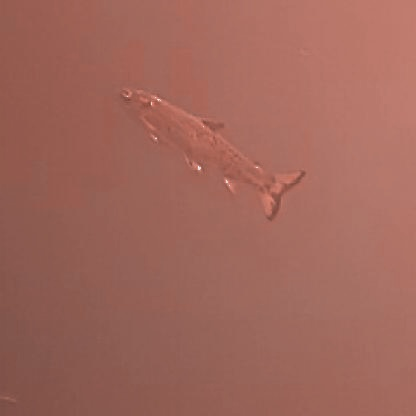salmon: (107, 80, 307, 222)
